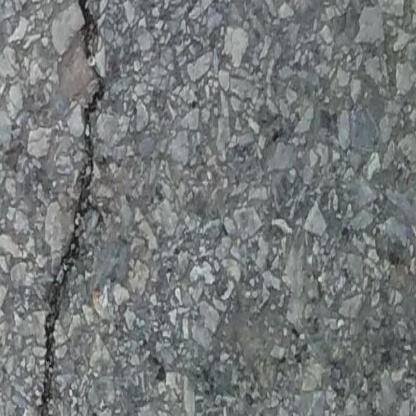Cracks: (29, 0, 107, 416)
